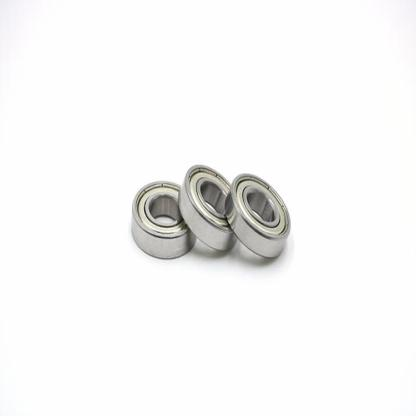FOD: (225, 168, 292, 260), (128, 178, 198, 263), (178, 161, 242, 252)
